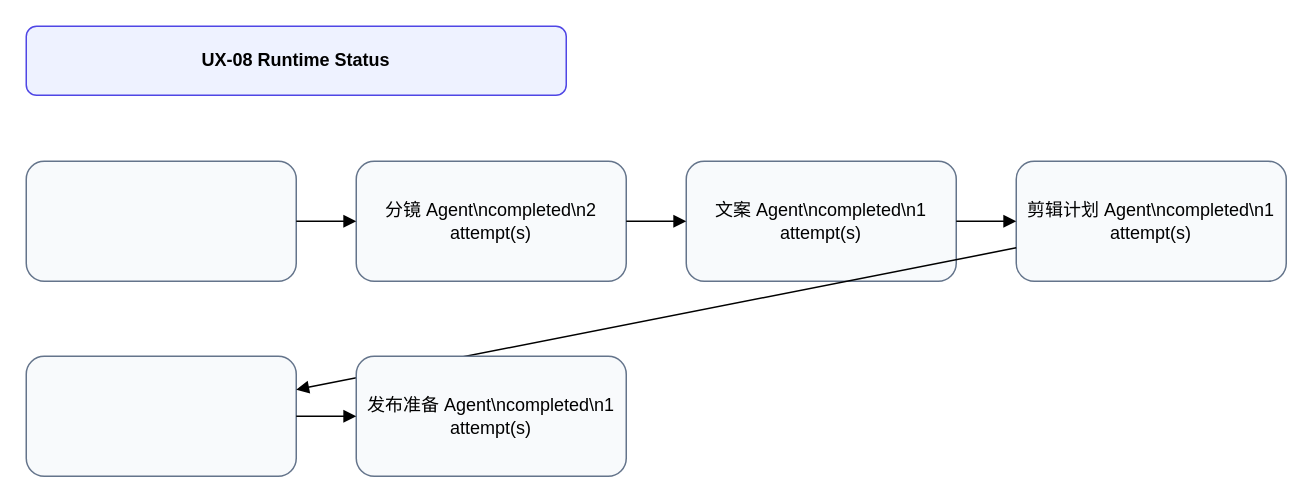
Image size: 1313x503. Some labels were removed from this diagram. The centre of each missing label's shape, as x and y in pixels:
"编剧 Agent\ncompleted\n1 attempt(s)" goes at (160,220).
"质量审查 Agent\ncompleted\n1 attempt(s)" goes at (160,415).
